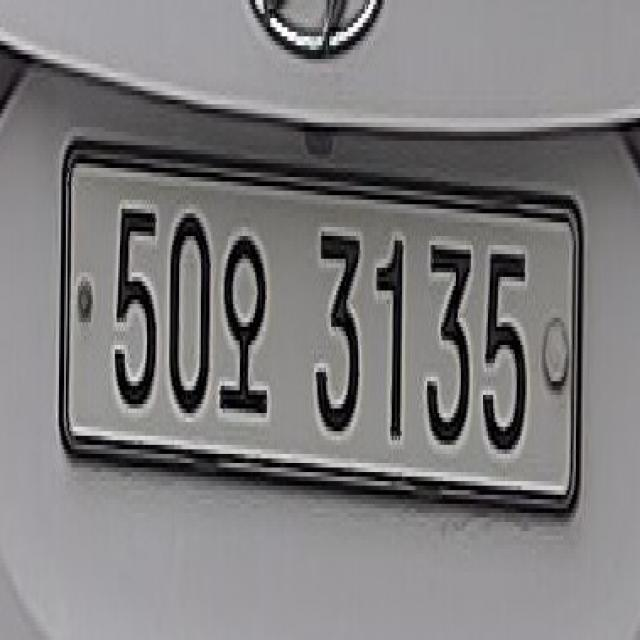0: (168, 189, 212, 423)
1: (374, 218, 414, 460)
3: (307, 198, 363, 449), (422, 235, 475, 460)
5: (106, 185, 166, 436), (481, 232, 536, 468)
license_plate: (48, 140, 590, 542)
o: (217, 222, 277, 446)
